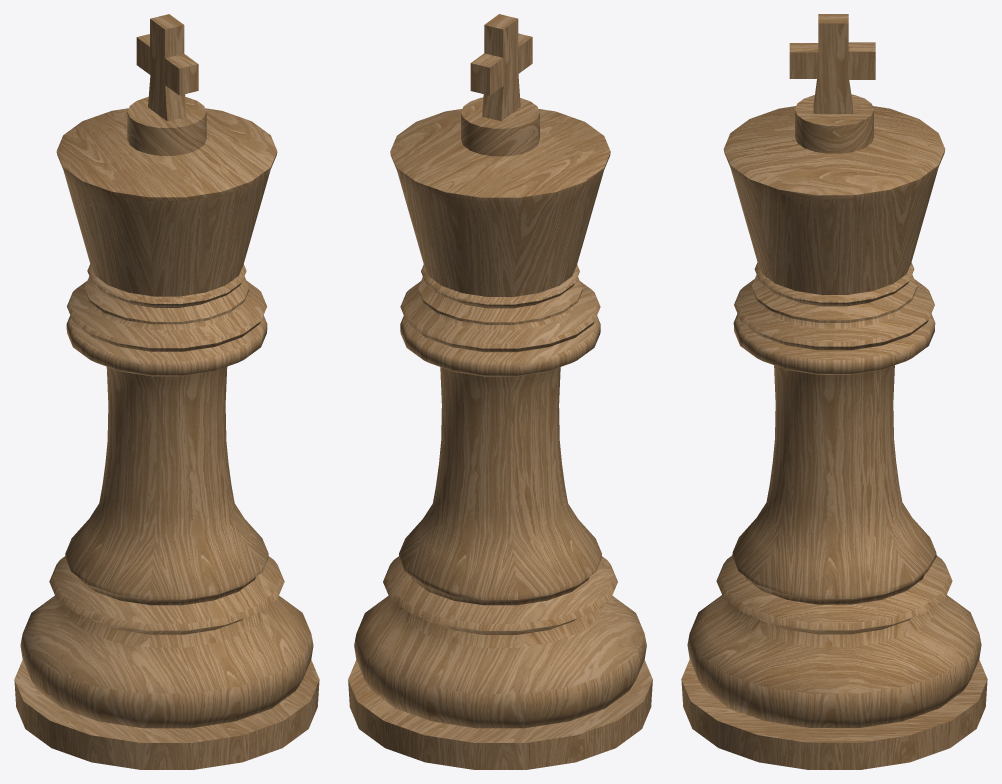
The model's file is white_king.obj.
3 renders of one model, left to right at view 1: azimuth 30°, elevation 25°; view 2: azimuth 150°, elevation 25°; view 3: azimuth 270°, elevation 25°, orthographic.
Parts seen in each view (by area): view 1: King_W_Material_005_0.001; view 2: King_W_Material_005_0.001; view 3: King_W_Material_005_0.001.
Boxes of the visible parts, x1,y1,x2,y2 form: King_W_Material_005_0.001: (14, 14, 319, 769); King_W_Material_005_0.001: (348, 14, 652, 769); King_W_Material_005_0.001: (681, 14, 987, 769).
Size of the model in its own units: 2.63 by 6.7 by 2.67.
